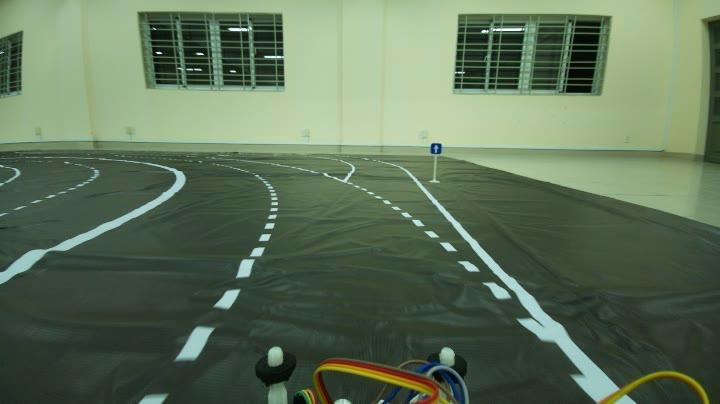onewayroad: (422, 138, 443, 158)
